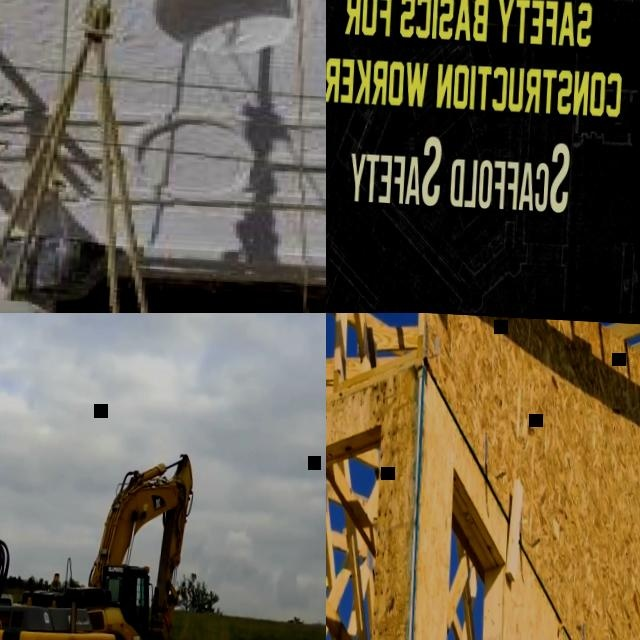Person: (122, 578, 143, 634)
machinery: (15, 446, 195, 640), (0, 428, 134, 640)
